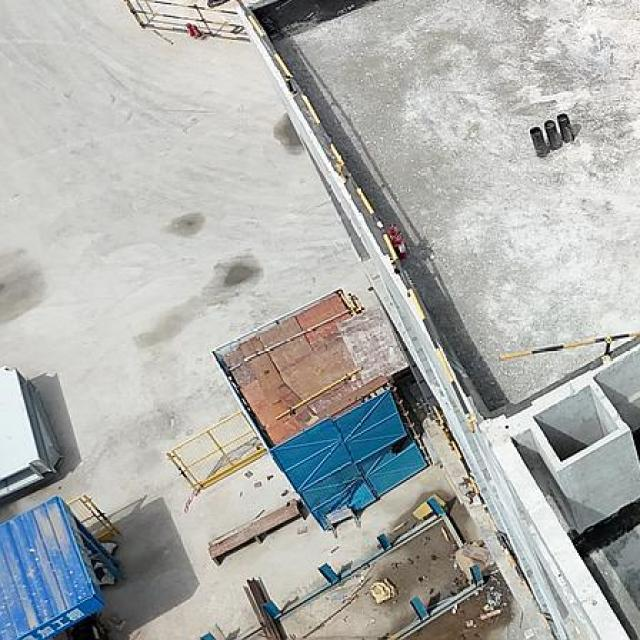edge_guardrail: (235, 0, 477, 434), (431, 406, 540, 608), (498, 330, 640, 359)
